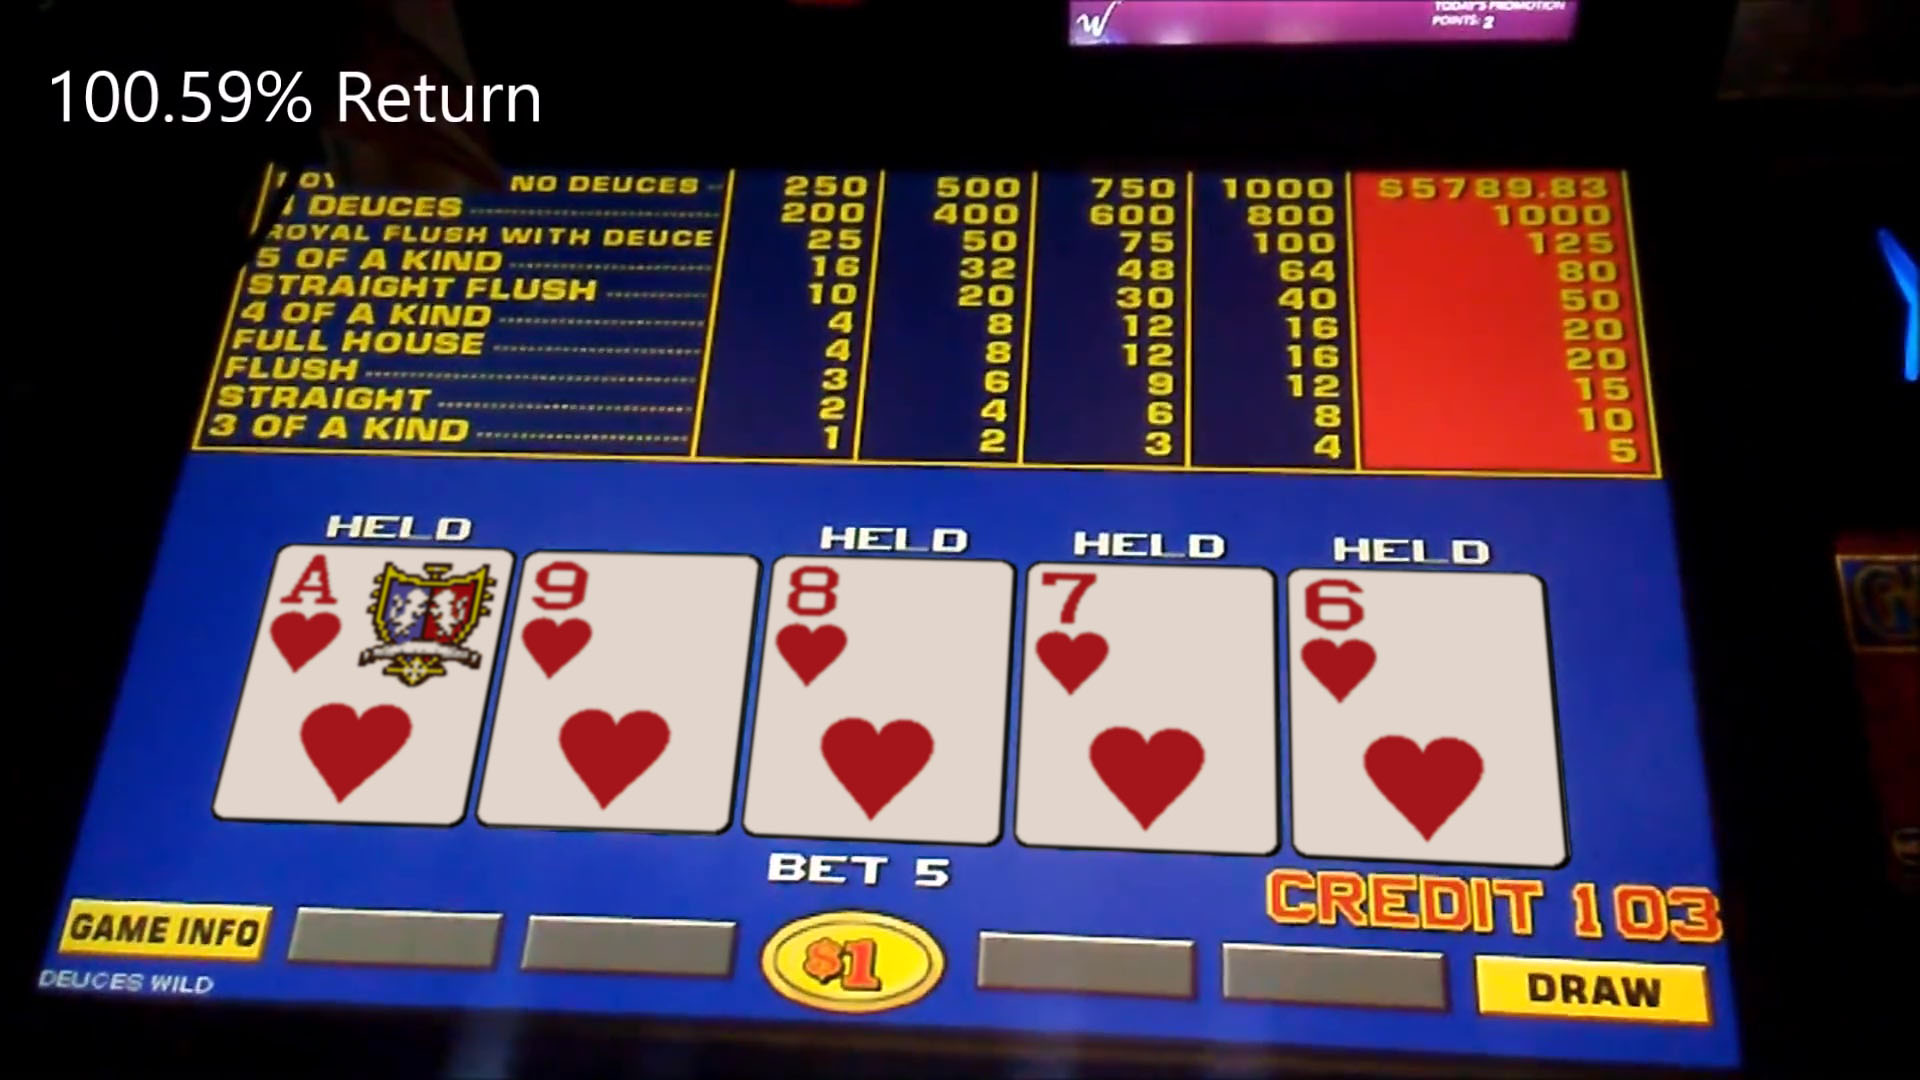H6: (1294, 575, 1540, 707)
H7: (1027, 566, 1270, 704)
H8: (771, 558, 1007, 696)
H9: (520, 553, 745, 688)
HA: (265, 549, 491, 684)
